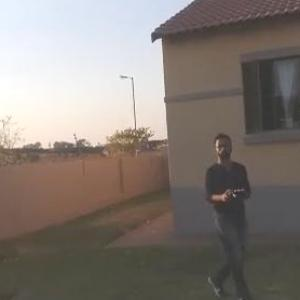follow: (191, 126, 260, 299)
